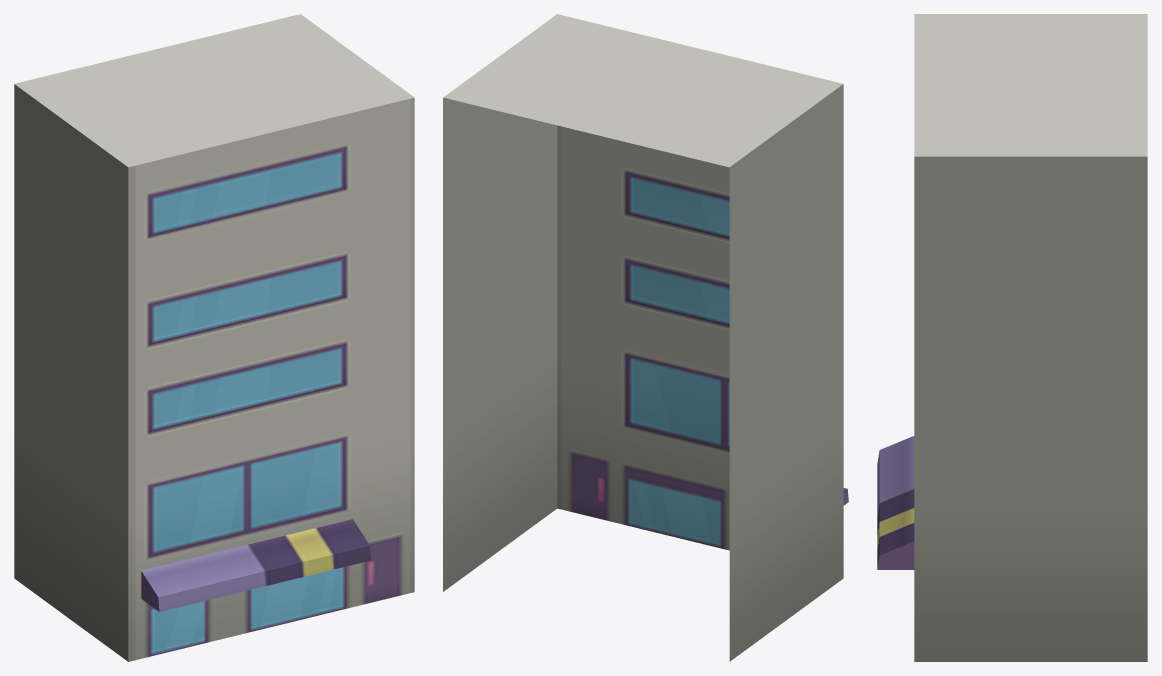
Rendered from Common_Building_03.fbx.
3 renders of one model, left to right at view 1: azimuth 30°, elevation 25°; view 2: azimuth 150°, elevation 25°; view 3: azimuth 270°, elevation 25°, orthographic. The views are drawn at different scales.
Parts seen in each view (by area): view 1: Common_Building_03; view 2: Common_Building_03; view 3: Common_Building_03.
Boxes of the visible parts, bbox=[...] form: Common_Building_03: bbox=[14, 14, 414, 661]; Common_Building_03: bbox=[443, 14, 848, 661]; Common_Building_03: bbox=[877, 14, 1147, 661].
Bounding box in the file's own units: 2000 × 3300 × 1600.
